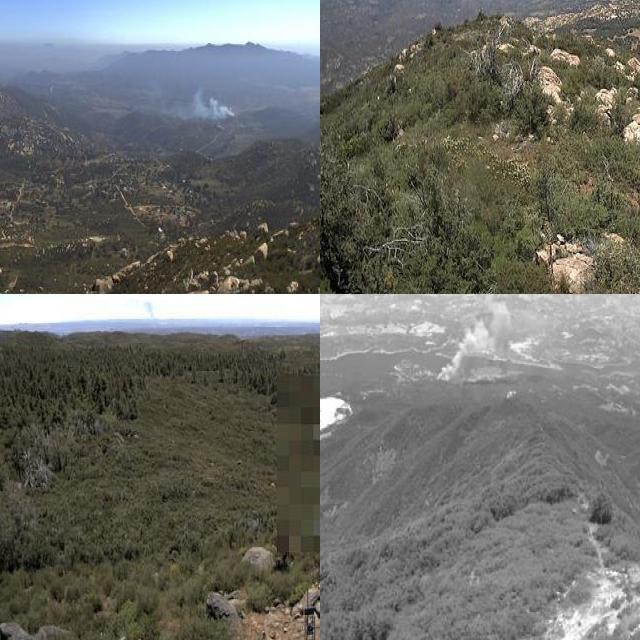smoke: (433, 299, 556, 385), (158, 83, 238, 124), (140, 296, 157, 323)
